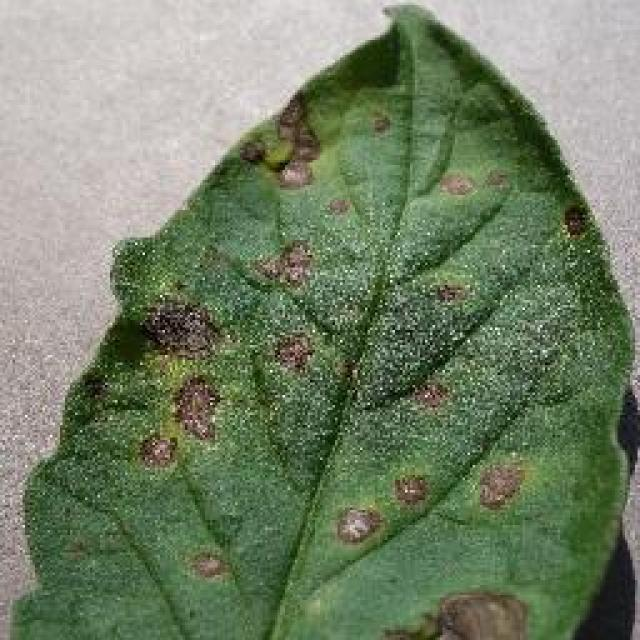Tomato___Early_blight: (4, 2, 637, 638)
